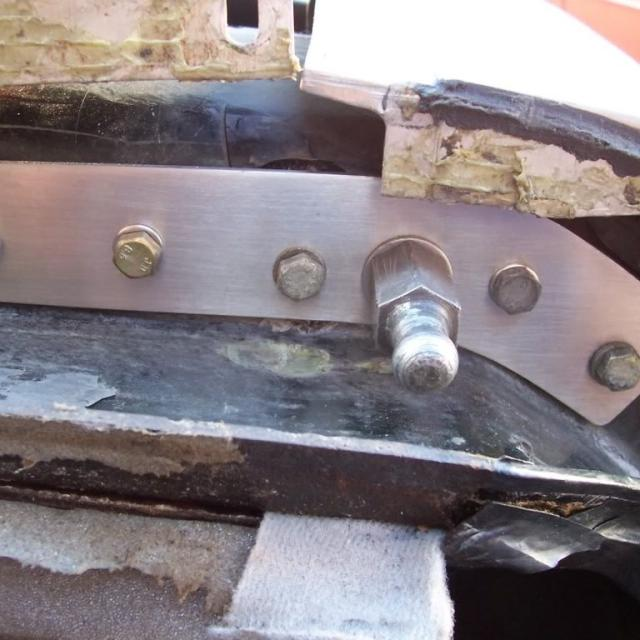bolt head: (272, 248, 328, 304), (111, 230, 163, 281), (491, 265, 542, 317), (592, 339, 636, 394)
